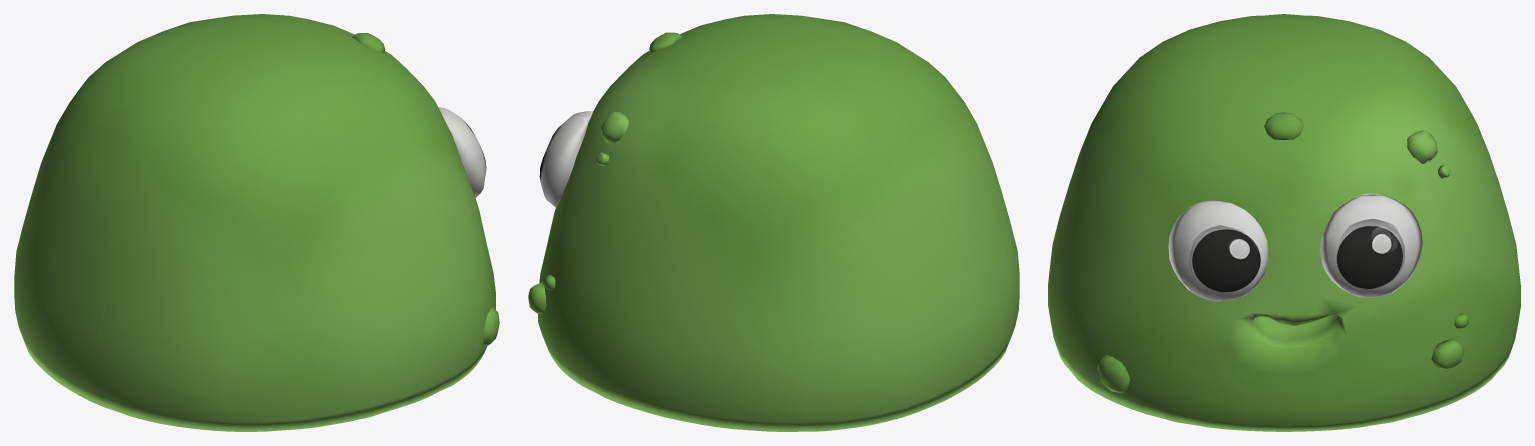
File: 史莱姆.glb
The picture shows the model from 3 angles, left to right: view 1: azimuth 30°, elevation 25°; view 2: azimuth 150°, elevation 25°; view 3: azimuth 270°, elevation 25°; orthographic projection.
Visible parts, largest first — view 1: tripo_node_bcd8b78d-5335-4198-b6b1-220efa9e84d7; view 2: tripo_node_bcd8b78d-5335-4198-b6b1-220efa9e84d7; view 3: tripo_node_bcd8b78d-5335-4198-b6b1-220efa9e84d7.
Boxes of the visible parts, bbox=[...] form: tripo_node_bcd8b78d-5335-4198-b6b1-220efa9e84d7: bbox=[14, 14, 499, 431]; tripo_node_bcd8b78d-5335-4198-b6b1-220efa9e84d7: bbox=[528, 14, 1019, 431]; tripo_node_bcd8b78d-5335-4198-b6b1-220efa9e84d7: bbox=[1048, 14, 1520, 431].
Size of the model in its own units: 0.998 by 0.6777 by 0.998.
1 material, 1 textured.
